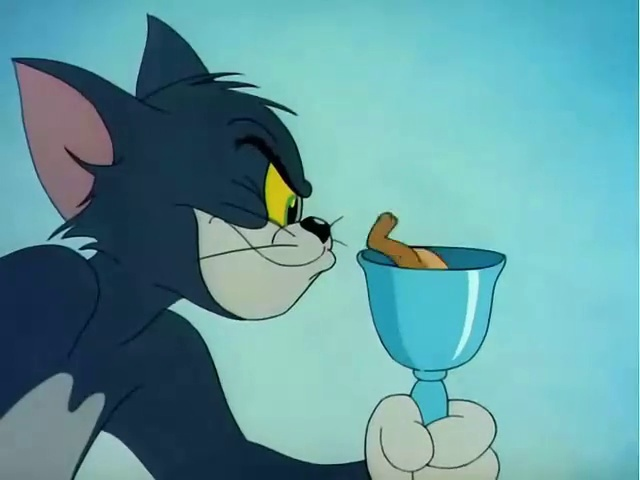tom: (0, 4, 345, 475)
